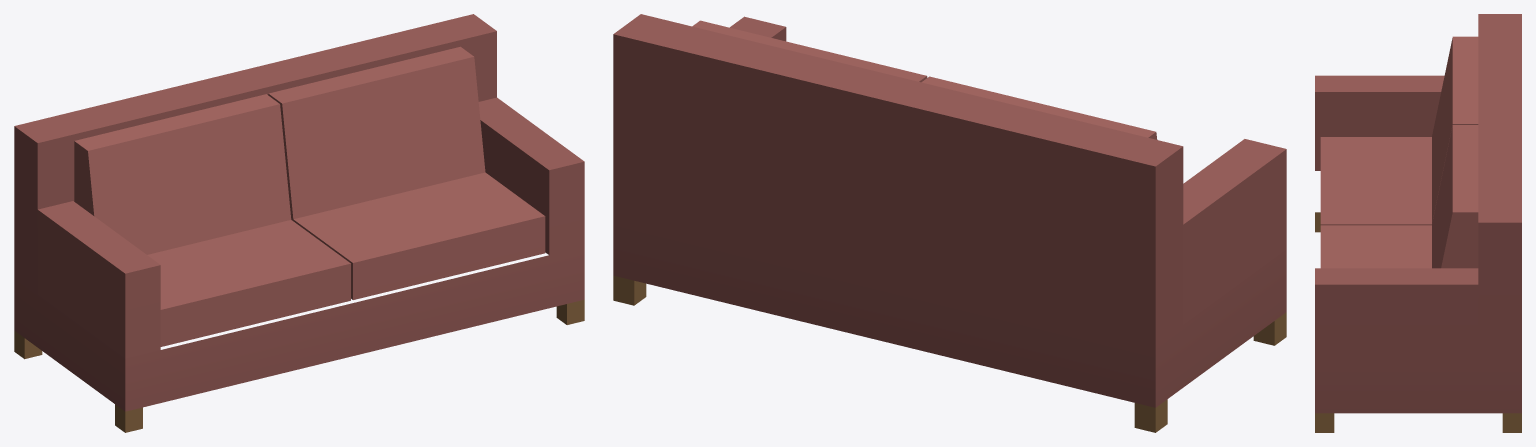
File: sofa.two_seat.rose.glb
3 renders of one model, left to right at view 1: azimuth 30°, elevation 25°; view 2: azimuth 150°, elevation 25°; view 3: azimuth 270°, elevation 25°, orthographic. The views are drawn at different scales.
Parts seen in each view (by area): view 1: sofa_two_seat_rose; view 2: sofa_two_seat_rose; view 3: sofa_two_seat_rose.
Boxes of the visible parts, bbox=[...] form: sofa_two_seat_rose: bbox=[14, 14, 584, 432]; sofa_two_seat_rose: bbox=[613, 14, 1286, 432]; sofa_two_seat_rose: bbox=[1315, 14, 1521, 432].
Size of what is drawn, in the model's own units: 1.81 by 0.85 by 0.758.
